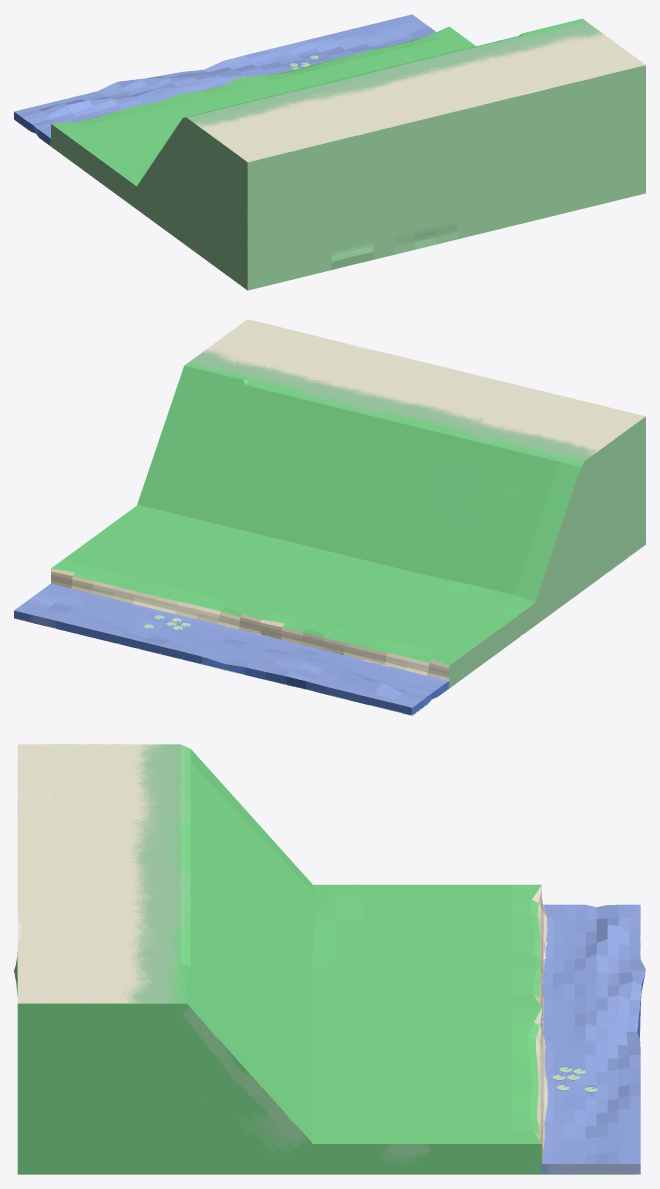
The model's file is ResultRiverbank.obj.
The picture shows the model from 3 angles, top to bottom: view 1: azimuth 30°, elevation 25°; view 2: azimuth 150°, elevation 25°; view 3: azimuth 270°, elevation 25°; orthographic projection. The views are drawn at different scales.
Visible parts, largest first — view 1: Terrain_0; view 2: Terrain_0; view 3: Terrain_0.
Boxes of the visible parts, x1,y1,x2,y2 form: Terrain_0: (14,14,645,290); Terrain_0: (14,319,645,715); Terrain_0: (14,744,645,1174).
Size of the model in its own units: 203 by 63.24 by 209.
Materials: 1 (1 with a texture image).
